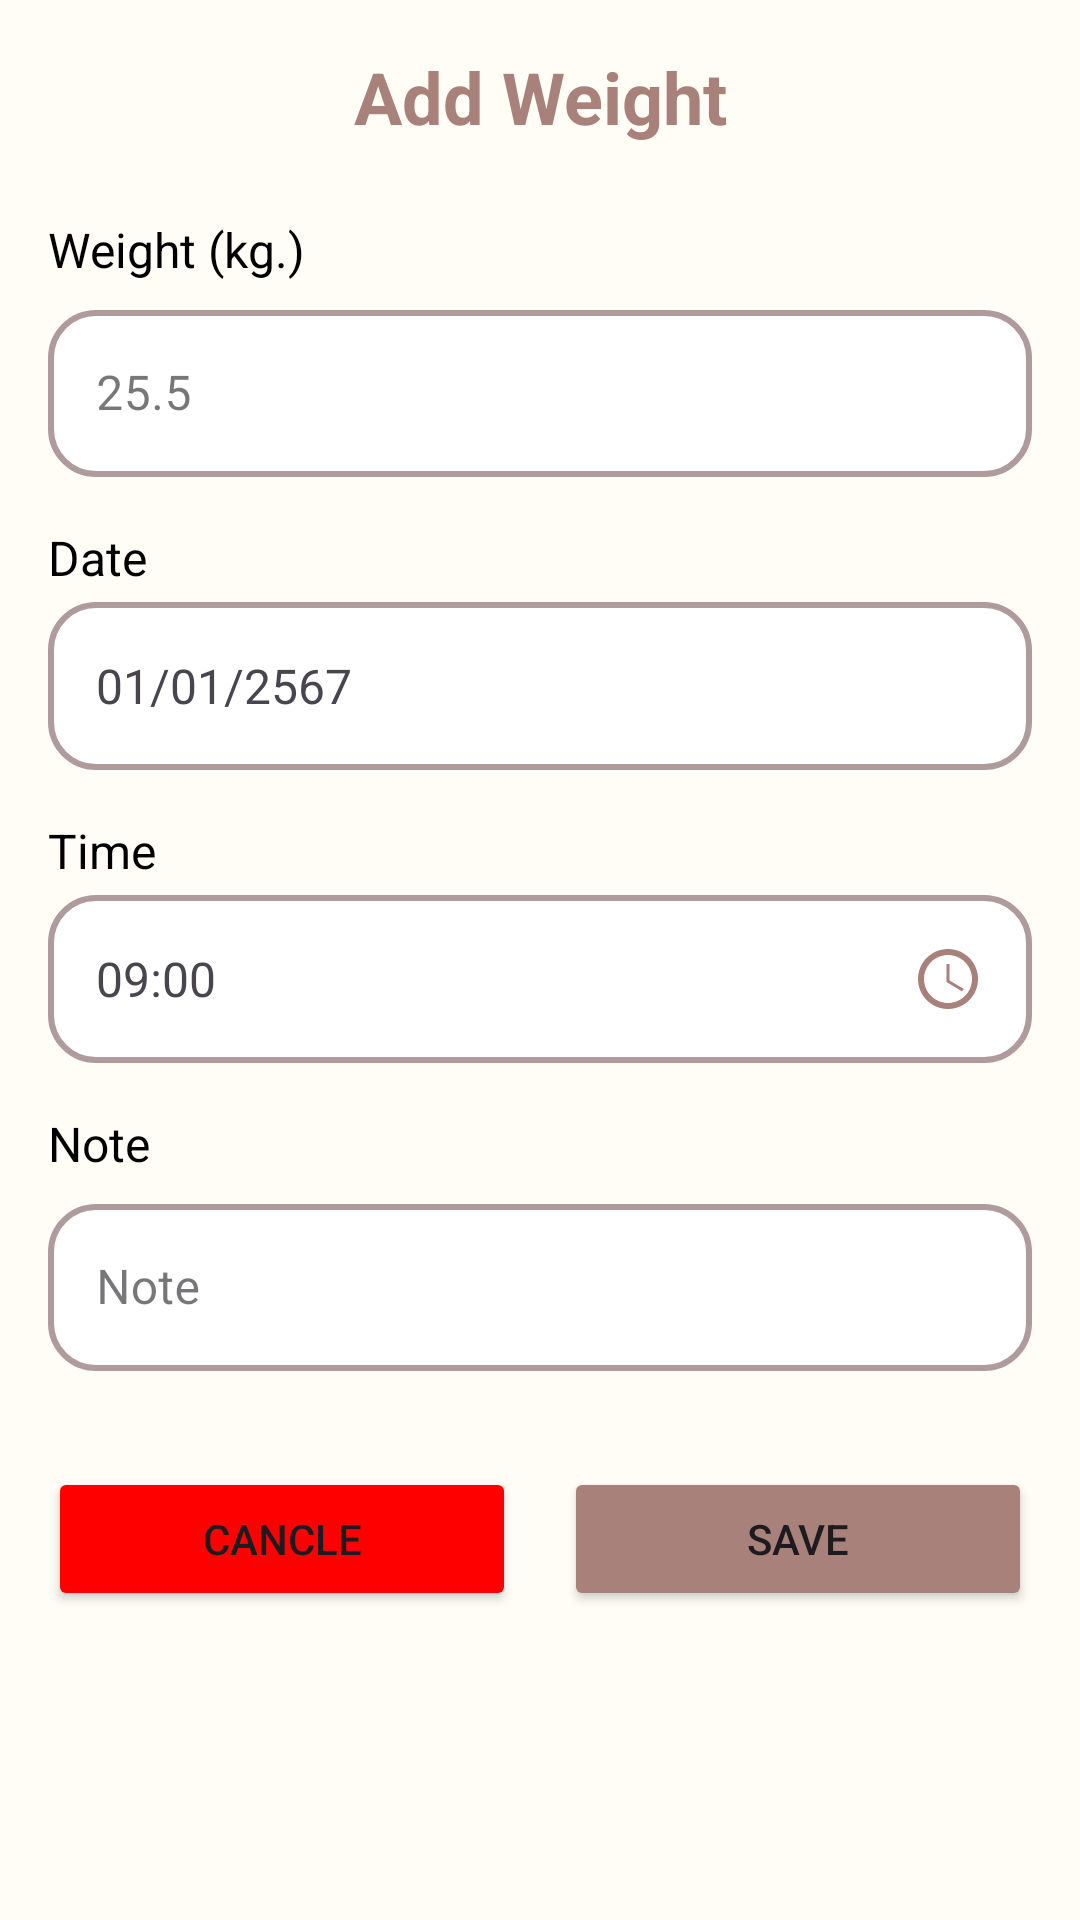

Point at icon controls on the screen. Image size 1080 × 1920, points as point (x, y).
clock: point (948, 979)
